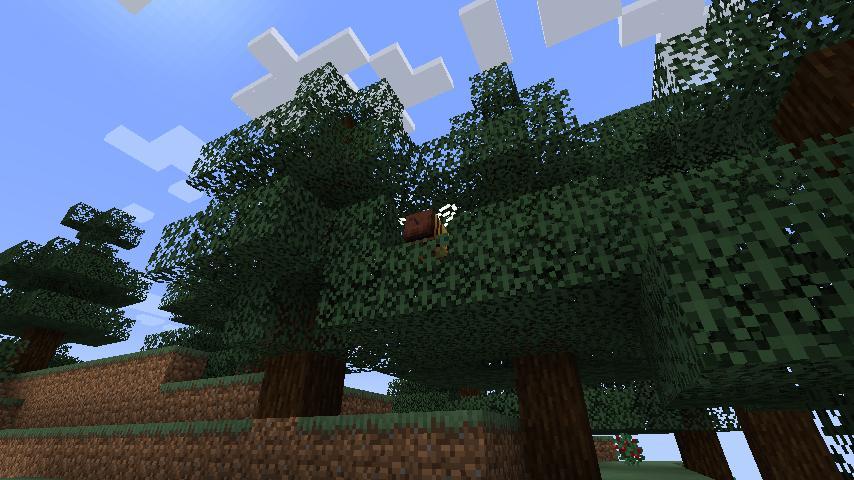bee: (395, 203, 460, 263)
